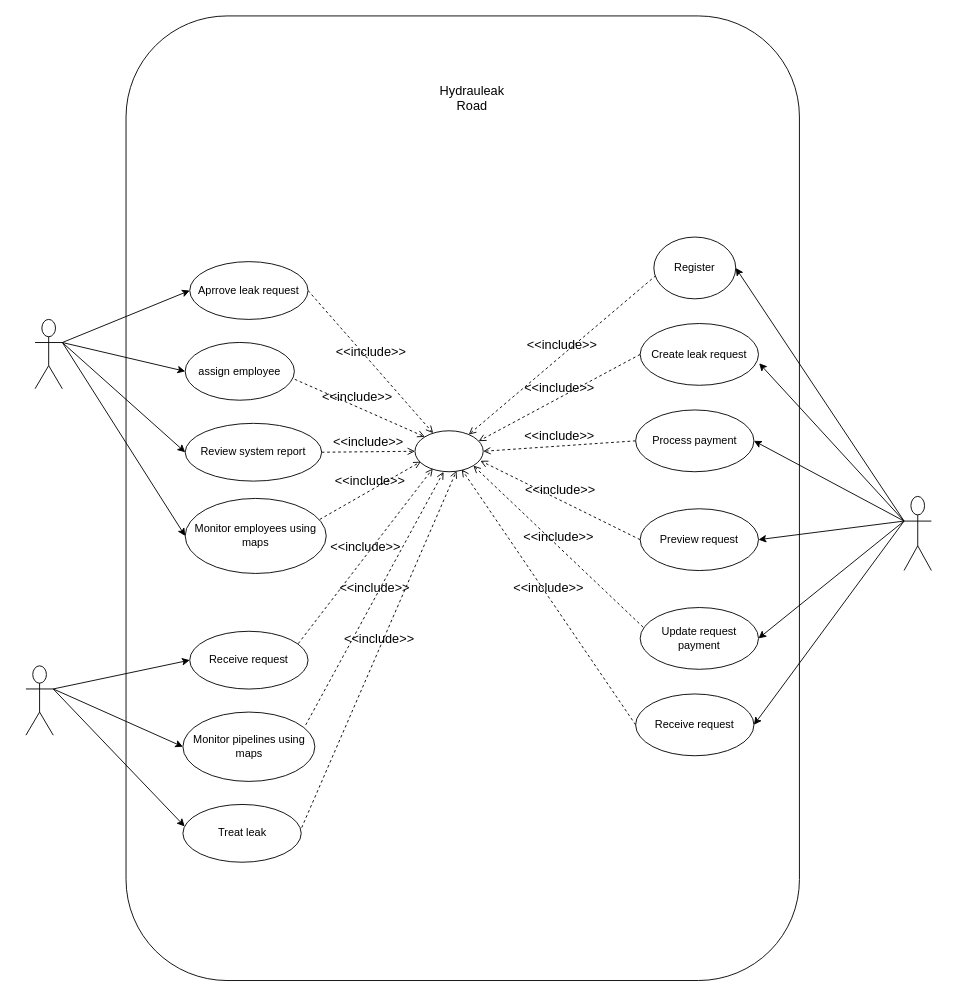
The diagram is 957 pixels wide and 996 high, and some of its shapes have lost their labels. The centre of each missing label's shape, as x and y in pixels:
Admin: the point at 48,353
Customer: the point at 917,532
Employee: the point at 39,700
Login: the point at 448,451
